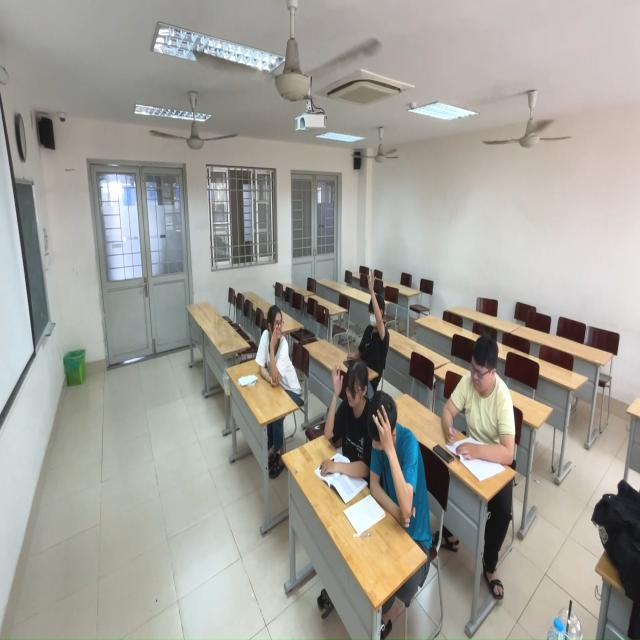raise_hand: (368, 380, 434, 550), (308, 359, 381, 484), (245, 277, 310, 399), (341, 264, 395, 374)
read: (443, 328, 517, 468)
